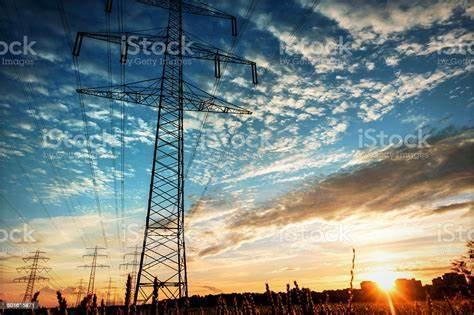power_tower: (73, 0, 256, 308), (10, 248, 54, 310), (118, 243, 154, 309), (75, 244, 106, 309)
